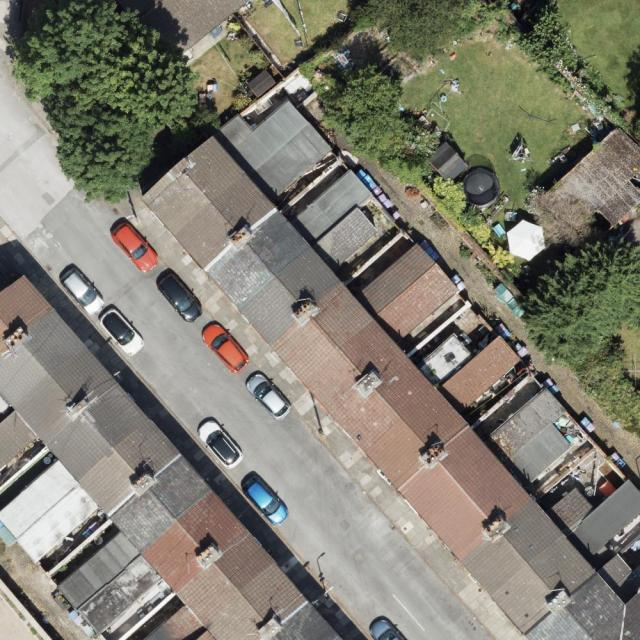roof: (143, 99, 640, 640), (0, 275, 344, 640), (114, 0, 251, 65)
